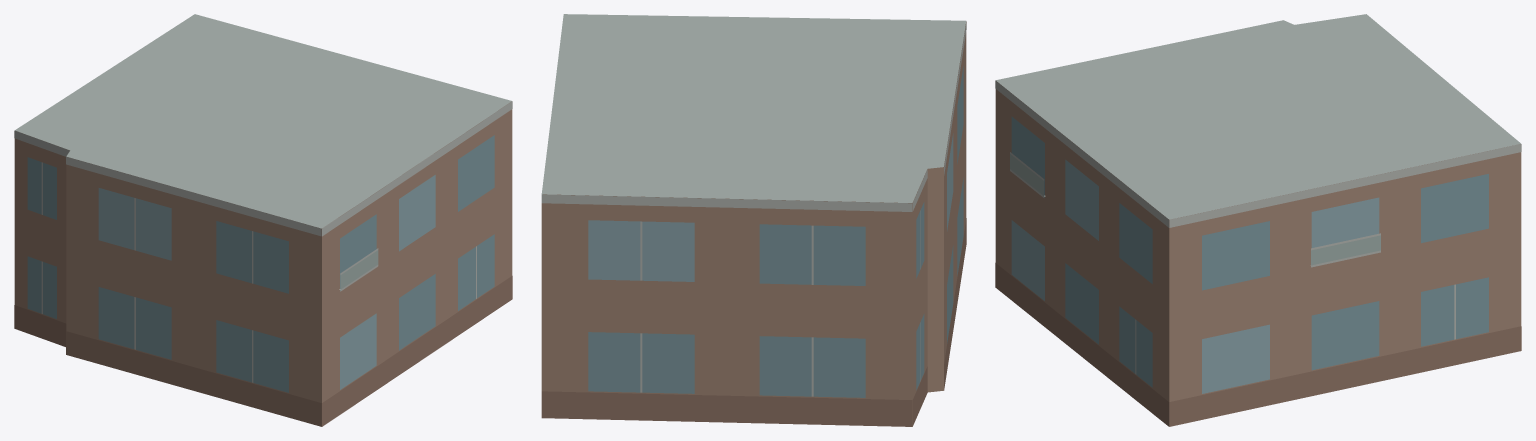
The model's file is survey-upis-33046635.glb.
The picture shows the model from 3 angles, left to right: view 1: azimuth 30°, elevation 25°; view 2: azimuth 150°, elevation 25°; view 3: azimuth 270°, elevation 25°; orthographic projection. The views are drawn at different scales.
Visible parts, largest first — view 1: survey-upis-33046635.tmp; view 2: survey-upis-33046635.tmp; view 3: survey-upis-33046635.tmp.
Boxes of the visible parts, bbox=[...] form: survey-upis-33046635.tmp: bbox=[14, 14, 512, 426]; survey-upis-33046635.tmp: bbox=[541, 14, 966, 426]; survey-upis-33046635.tmp: bbox=[995, 14, 1521, 426].
Bounding box in the file's own units: 13 × 6.1 × 14.05.
